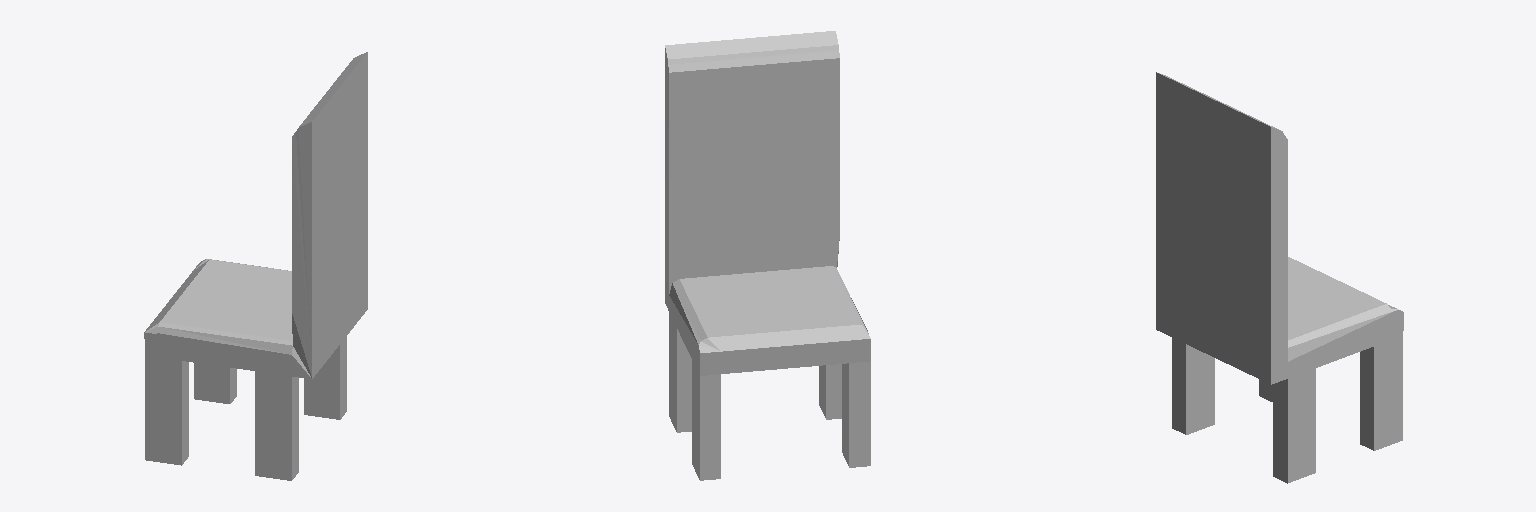
Rendered from stoel.obj.
3 views of the same model, side by side, from view 1: azimuth 30°, elevation 25°; view 2: azimuth 150°, elevation 25°; view 3: azimuth 270°, elevation 25° (orthographic).
Parts seen in each view (by area): view 1: Stoel_Cube.006; view 2: Stoel_Cube.006; view 3: Stoel_Cube.006.
Boxes of the visible parts, <box> form: Stoel_Cube.006: <box>144,52,367,480</box>; Stoel_Cube.006: <box>665,31,870,480</box>; Stoel_Cube.006: <box>1156,72,1403,483</box>.
Bounding box in the file's own units: 1.35 × 2.17 × 1.35.